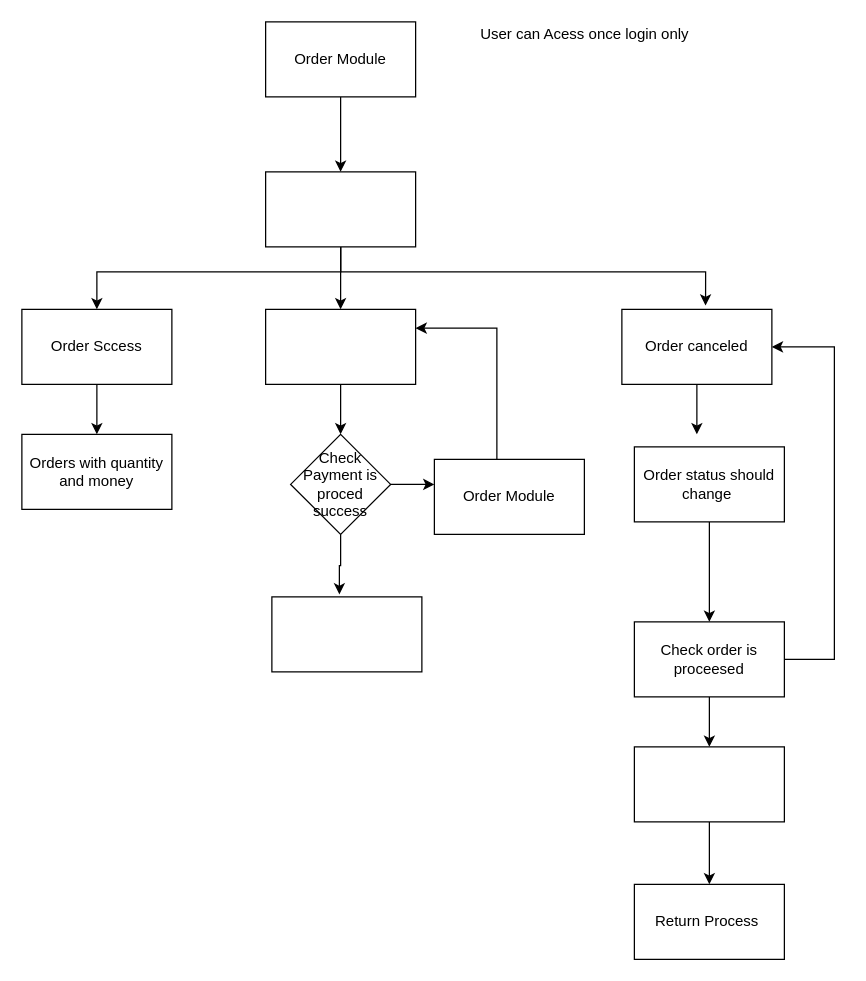
This 866x981 diagram has some shape labels left out. The shapes that lost their labels are listed below. From the top down, each one's centre as x and y in pixels, then its label:
(340,209): Order List page
(340,346): Orders Pending
(346,634): Proceed to ddelivery
(708,784): Order Stop the process
